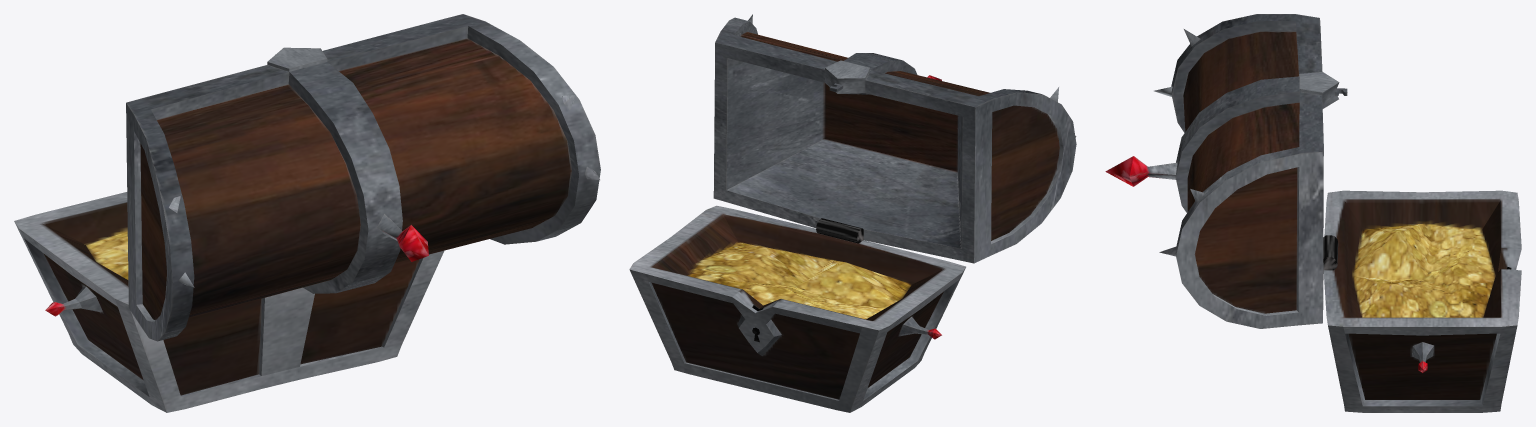
File: chest3.obj
The picture shows the model from 3 angles, left to right: view 1: azimuth 30°, elevation 25°; view 2: azimuth 150°, elevation 25°; view 3: azimuth 270°, elevation 25°; orthographic projection. The views are drawn at different scales.
Visible parts, largest first — view 1: chest:pCylinder2; view 2: chest:pCylinder2; view 3: chest:pCylinder2.
Part boxes in pixels (<box>): chest:pCylinder2: <box>14,14,600,412</box>; chest:pCylinder2: <box>629,14,1076,412</box>; chest:pCylinder2: <box>1105,14,1521,412</box>.
Bounding box in the file's own units: 10.64 × 8.07 × 10.74.
1 material, 1 textured.
